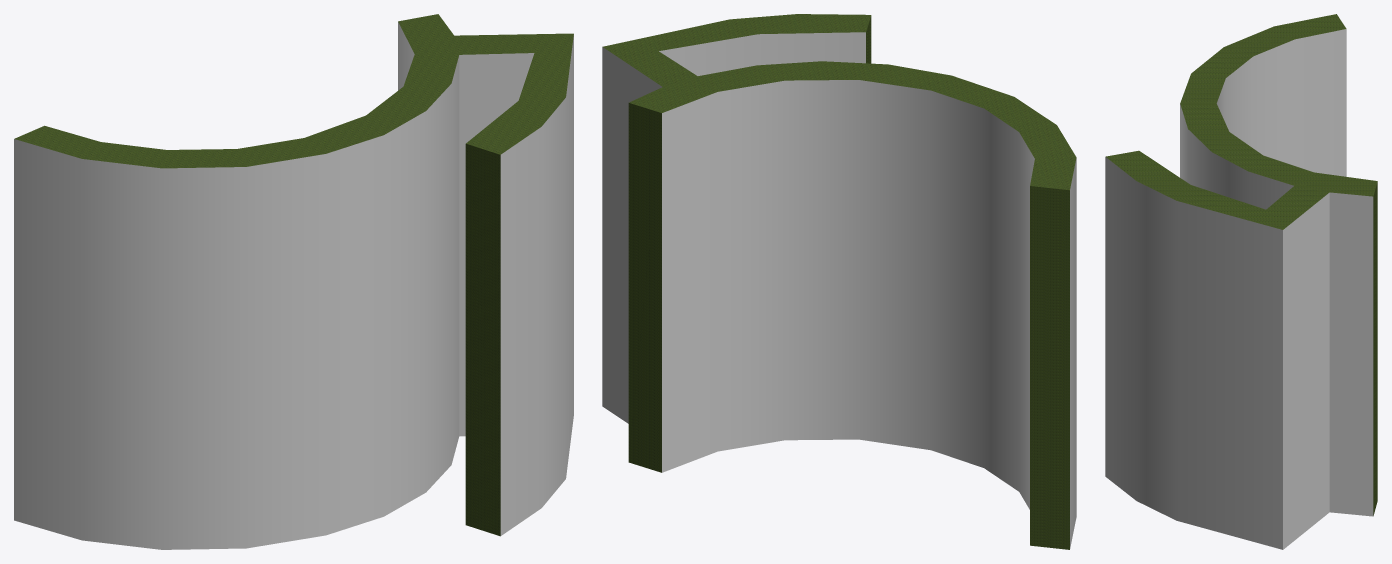
The model's file is mesh2_model_lev2.glb.
3 views of the same model, side by side, from view 1: azimuth 30°, elevation 25°; view 2: azimuth 150°, elevation 25°; view 3: azimuth 270°, elevation 25° (orthographic). The views are drawn at different scales.
Parts seen in each view (by area): view 1: mesh2_model_lev2; view 2: mesh2_model_lev2; view 3: mesh2_model_lev2.
Boxes of the visible parts, left/top/right/bottom form: mesh2_model_lev2: left=14, top=14, right=573, bottom=549; mesh2_model_lev2: left=602, top=14, right=1076, bottom=549; mesh2_model_lev2: left=1105, top=14, right=1377, bottom=549.
Size of the model in its own units: 4.79 by 3.31 by 2.55.
2 materials, 1 textured.
